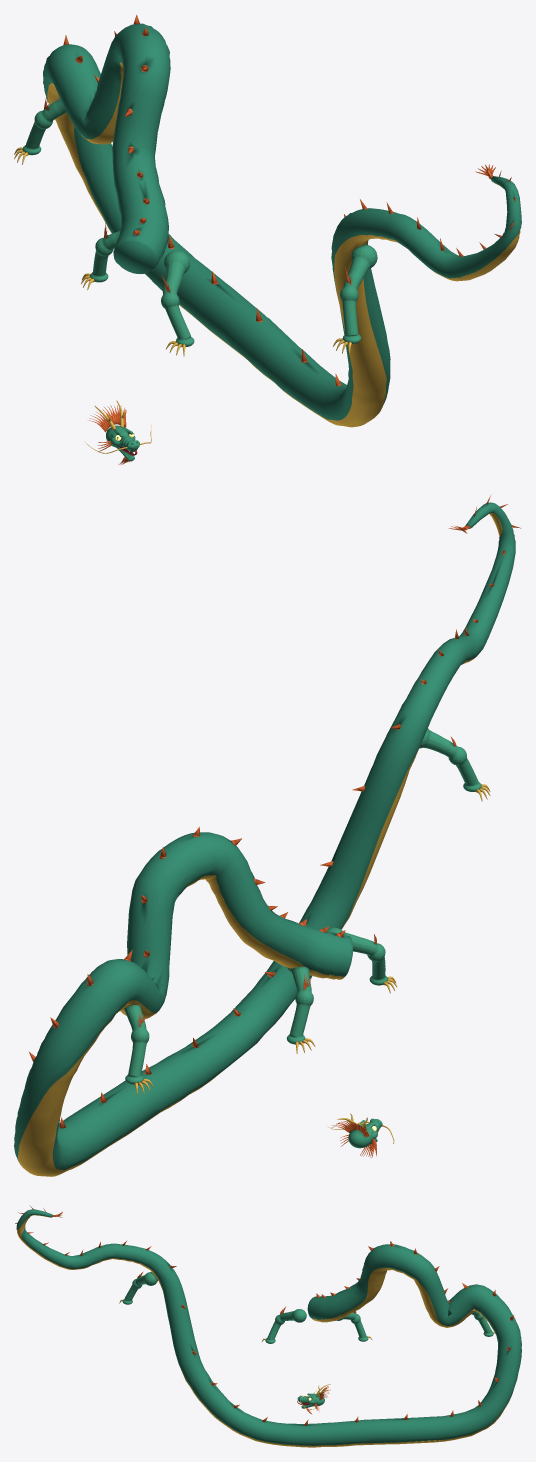
The model's file is longquan.glb.
3 views of the same model, one above another, from view 1: azimuth 30°, elevation 25°; view 2: azimuth 150°, elevation 25°; view 3: azimuth 270°, elevation 25° (orthographic). The views are drawn at different scales.
Visible parts, largest first — view 1: LQ_Body, LQ_LegRR, LQ_LegFR, LQ_Fins, LQ_LegRL, LQ_LegFL, LQ_HeadMass, LQ_ManeMesh; view 2: LQ_Body, LQ_Fins, LQ_LegRR, LQ_LegFL, LQ_LegRL, LQ_LegFR; view 3: LQ_Body, LQ_Fins, LQ_LegFR, LQ_LegRR, LQ_LegFL.
Part boxes in pixels (left/top/right/bottom): LQ_Body: left=43, top=23, right=521, bottom=427; LQ_LegRR: left=340, top=244, right=377, bottom=344; LQ_LegFR: left=161, top=250, right=194, bottom=346; LQ_Fins: left=63, top=14, right=516, bottom=386; LQ_LegRL: left=22, top=98, right=66, bottom=155; LQ_LegFL: left=90, top=231, right=120, bottom=282; LQ_HeadMass: left=106, top=425, right=139, bottom=451; LQ_ManeMesh: left=89, top=405, right=129, bottom=465; LQ_Body: left=14, top=502, right=515, bottom=1176; LQ_Fins: left=29, top=494, right=520, bottom=1128; LQ_LegRR: left=419, top=728, right=481, bottom=791; LQ_LegFL: left=286, top=960, right=313, bottom=1044; LQ_LegRL: left=124, top=1005, right=149, bottom=1084; LQ_LegFR: left=327, top=927, right=387, bottom=985; LQ_Body: left=16, top=1209, right=521, bottom=1447; LQ_Fins: left=15, top=1206, right=514, bottom=1425; LQ_LegFR: left=265, top=1309, right=306, bottom=1343; LQ_LegRR: left=122, top=1272, right=157, bottom=1304; LQ_LegFL: left=336, top=1312, right=368, bottom=1341.
Bounding box in the file's own units: 7.59 × 13.9 × 26.31.
